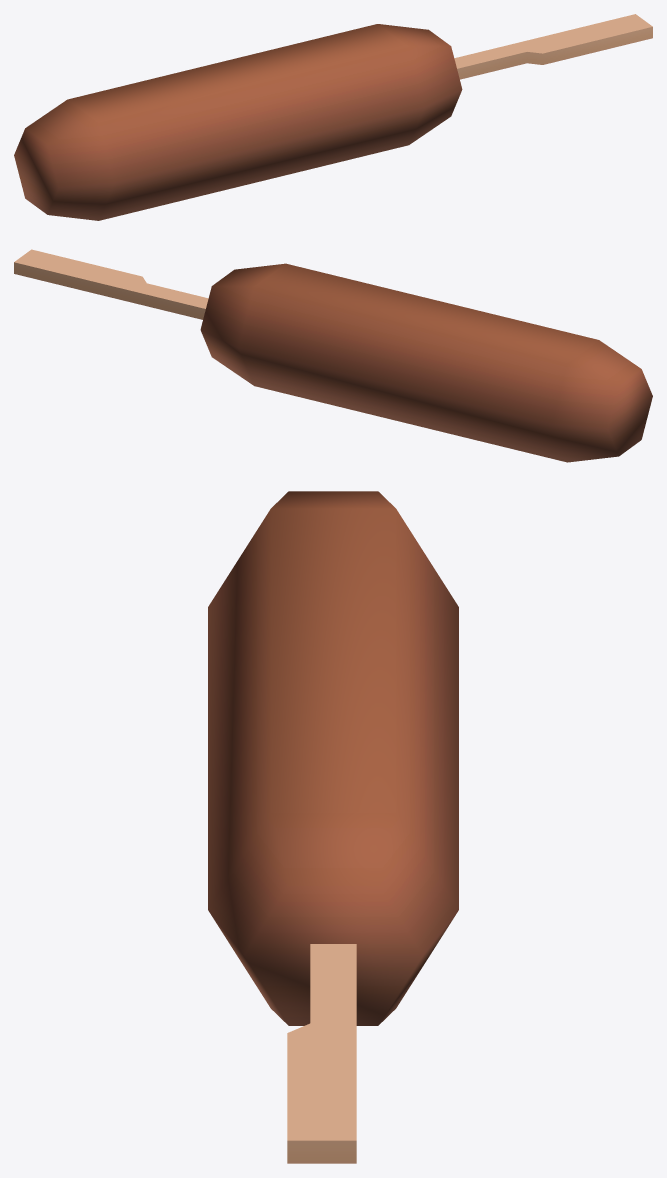
The model's file is kenney-food-corn-dog.glb.
3 views of the same model, one above another, from view 1: azimuth 30°, elevation 25°; view 2: azimuth 150°, elevation 25°; view 3: azimuth 270°, elevation 25° (orthographic). The views are drawn at different scales.
Parts seen in each view (by area): view 1: dog, corn-dog; view 2: dog, corn-dog; view 3: dog, corn-dog.
Boxes of the visible parts, left/top/right/bottom form: dog: left=14, top=24, right=462, bottom=220; corn-dog: left=454, top=14, right=652, bottom=79; dog: left=200, top=263, right=652, bottom=462; corn-dog: left=14, top=249, right=208, bottom=319; dog: left=208, top=491, right=458, bottom=1025; corn-dog: left=287, top=944, right=356, bottom=1163.
Size of the model in its own units: 0.6044 by 0.094 by 0.1086.
Materials: 1 (1 with a texture image).
